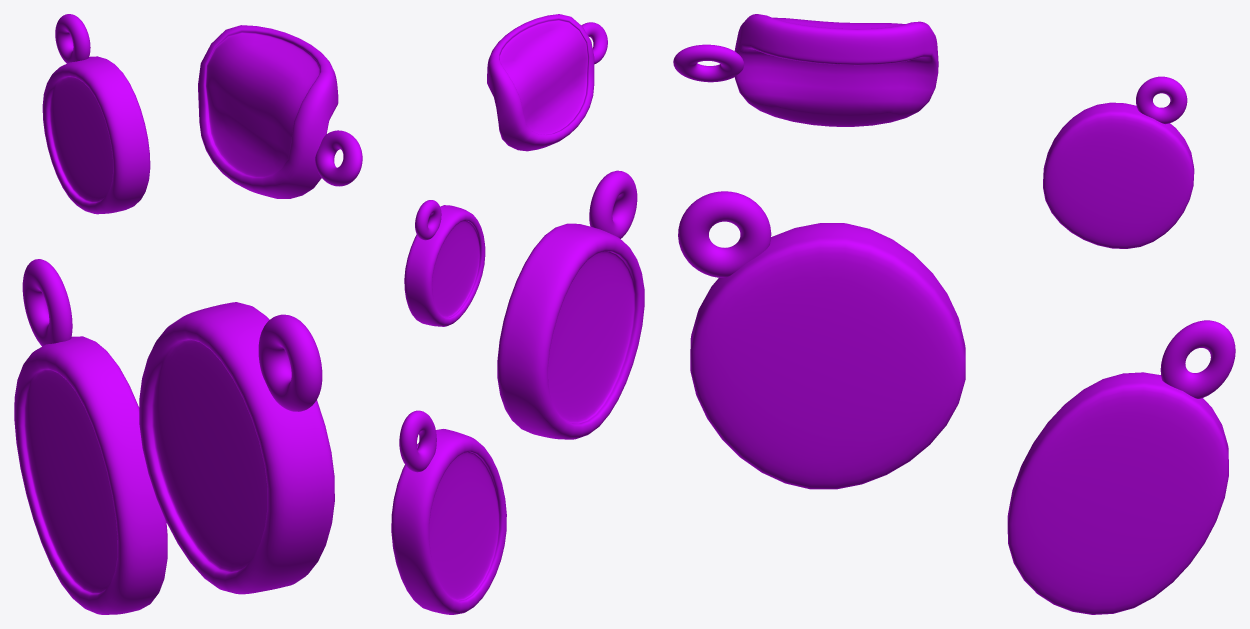
The model's file is relojes doblado.fbx.
The picture shows the model from 3 angles, left to right: view 1: azimuth 30°, elevation 25°; view 2: azimuth 150°, elevation 25°; view 3: azimuth 270°, elevation 25°; orthographic projection. The views are drawn at different scales.
Visible parts, largest first — view 1: pCubeShape13; view 2: pCubeShape13; view 3: pCubeShape13.
Boxes of the visible parts, x1=… form: pCubeShape13: x1=14, y1=14, x2=362, y2=614; pCubeShape13: x1=391, y1=14, x2=644, y2=614; pCubeShape13: x1=673, y1=14, x2=1235, y2=614.
Bounding box in the file's own units: 0.7921 × 4.19 × 3.49.
